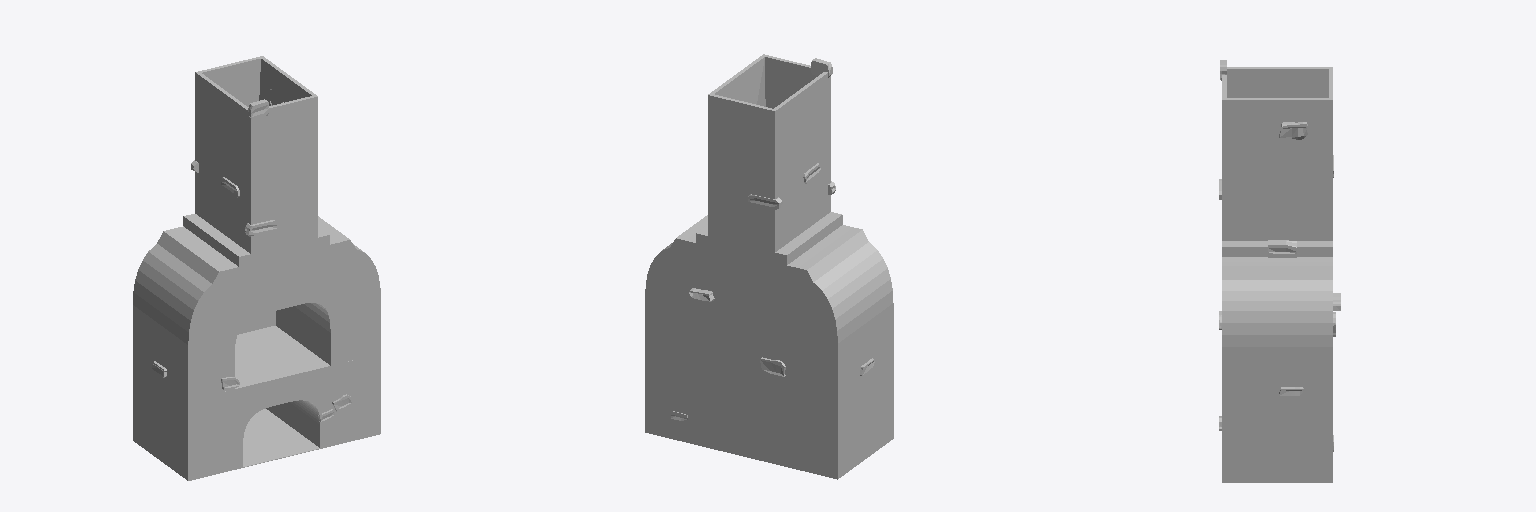
Rendered from baker.obj.
3 renders of one model, left to right at view 1: azimuth 30°, elevation 25°; view 2: azimuth 150°, elevation 25°; view 3: azimuth 270°, elevation 25°, orthographic.
Parts seen in each view (by area): view 1: Forge_LP; view 2: Forge_LP; view 3: Forge_LP.
Boxes of the visible parts, x1=… form: Forge_LP: x1=133, y1=56, x2=380, y2=480; Forge_LP: x1=645, y1=54, x2=893, y2=479; Forge_LP: x1=1219, y1=60, x2=1340, y2=482.
Size of the model in its own units: 1.96 by 3.41 by 1.04.